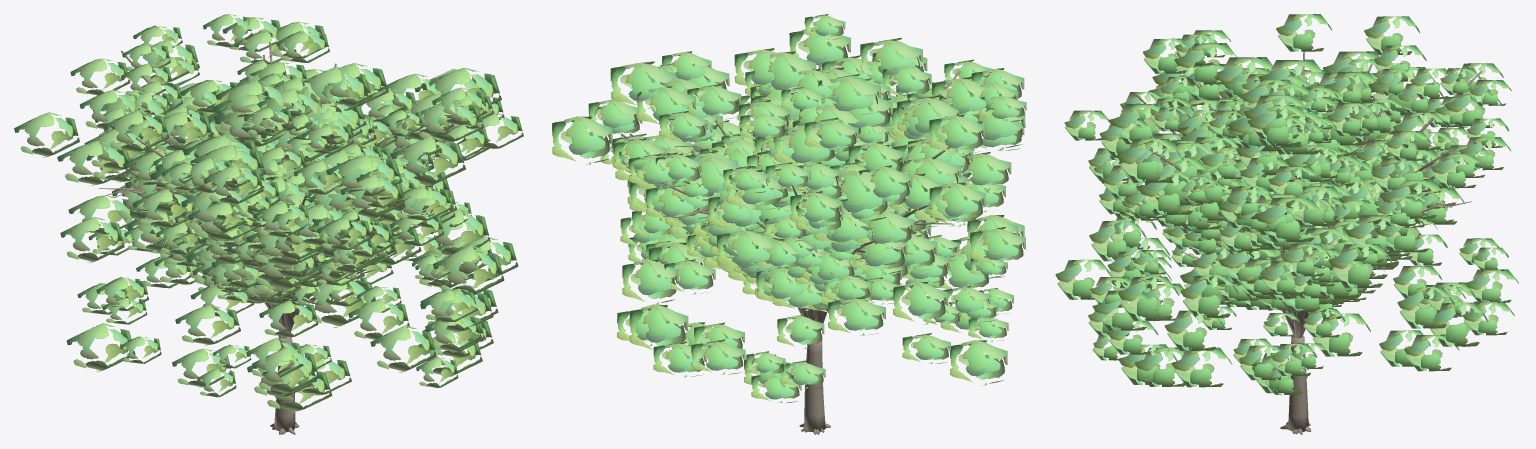
The model's file is linden.glb.
3 views of the same model, side by side, from view 1: azimuth 30°, elevation 25°; view 2: azimuth 150°, elevation 25°; view 3: azimuth 270°, elevation 25° (orthographic).
Parts seen in each view (by area): view 1: LindenTree_3, LindenTree_2, LindenTree_5, LindenTree_1, LindenTree_4; view 2: LindenTree_5, LindenTree_3, LindenTree_2, LindenTree_4, LindenTree_1; view 3: LindenTree_3, LindenTree_5, LindenTree_2, LindenTree_1, LindenTree_4.
Boxes of the visible parts, box(x1,y1,x2,y2) form: LindenTree_3: box(79, 31, 518, 434); LindenTree_2: box(14, 21, 493, 434); LindenTree_5: box(66, 25, 523, 434); LindenTree_1: box(88, 55, 504, 431); LindenTree_4: box(60, 14, 484, 429); LindenTree_5: box(588, 14, 1007, 432); LindenTree_3: box(610, 37, 1026, 434); LindenTree_2: box(552, 59, 1011, 434); LindenTree_4: box(620, 60, 1018, 432); LindenTree_1: box(646, 62, 1025, 434); LindenTree_3: box(1088, 30, 1488, 433); LindenTree_5: box(1114, 63, 1514, 434); LindenTree_2: box(1055, 16, 1518, 432); LindenTree_1: box(1099, 14, 1508, 433); LindenTree_4: box(1108, 34, 1510, 433).
Bounding box in the file's own units: 6.59 × 5.05 × 6.03.
2 materials, 1 textured.
